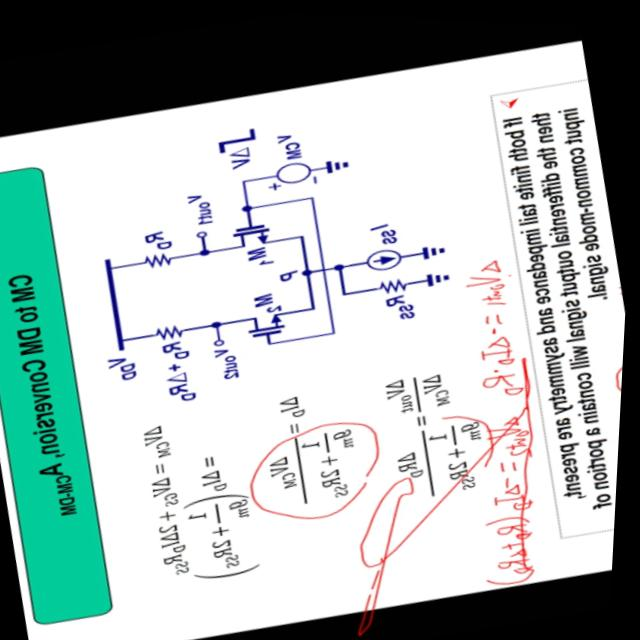panseo: (426, 236, 582, 588), (580, 246, 631, 449)
